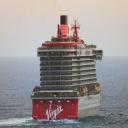cruises: (30, 11, 104, 122)
